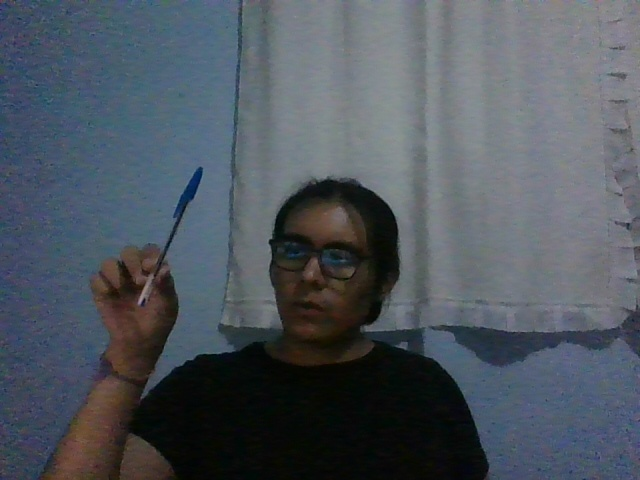pluma: (137, 165, 203, 307)
